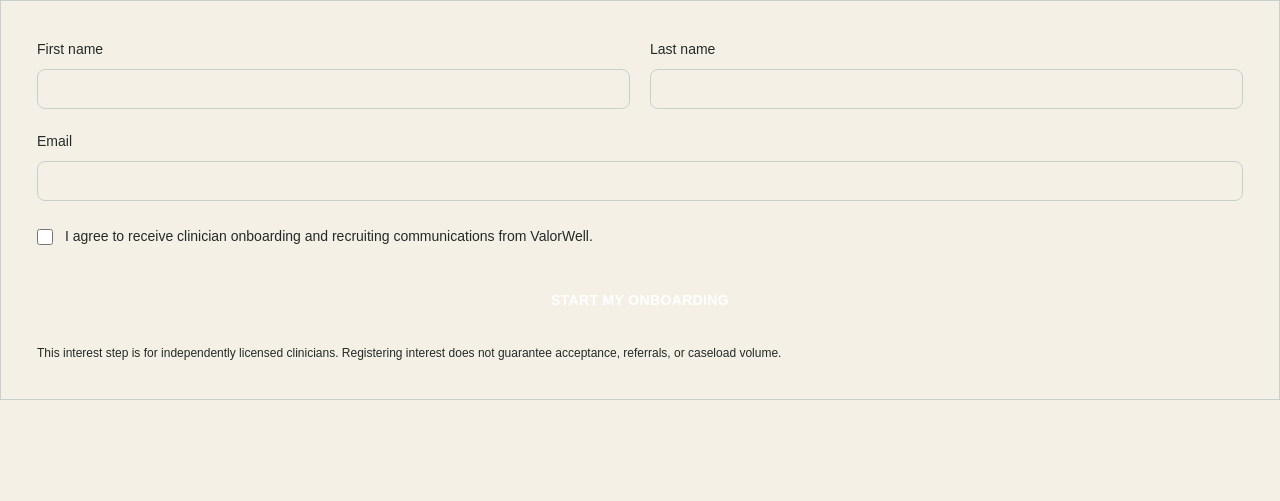
it: ClinicianInterestForm › validates required fields before invoking the function
Click the button "Start My Onboarding": (640, 300) x1=37 y1=276 x2=1243 y2=324
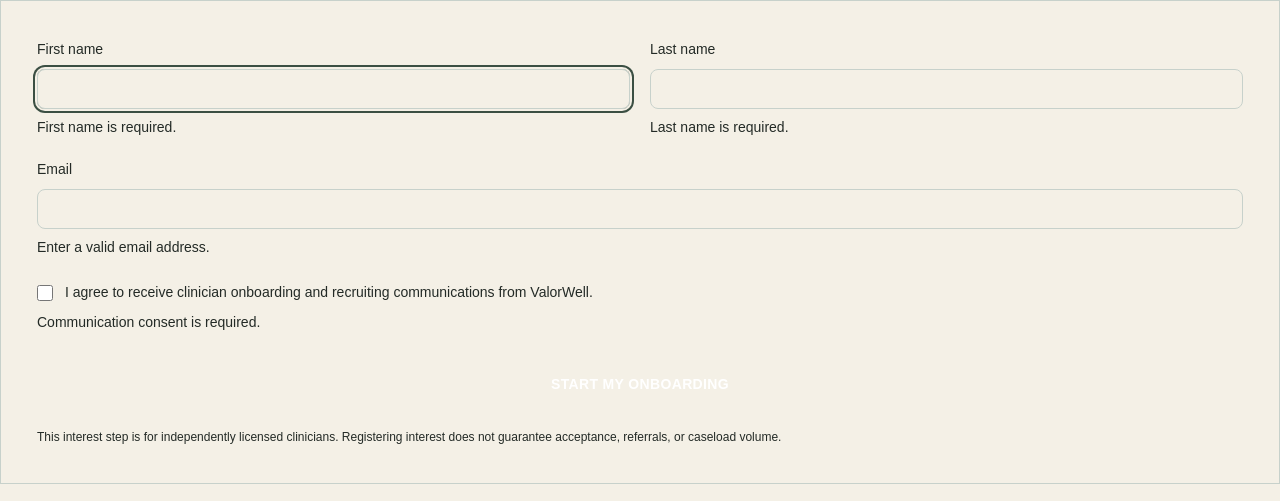
Expected: the text "First name is required." is shown, x1=37 y1=119 x2=176 y2=135
Expected: the text "Last name is required." is shown, x1=650 y1=119 x2=788 y2=135
Expected: the text "Communication consent is required." is shown, x1=37 y1=314 x2=260 y2=330
